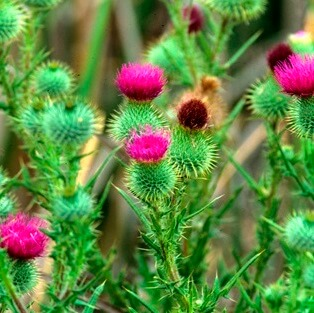thistle: (112, 58, 171, 142), (121, 127, 182, 208), (272, 53, 314, 144), (7, 212, 49, 293)
